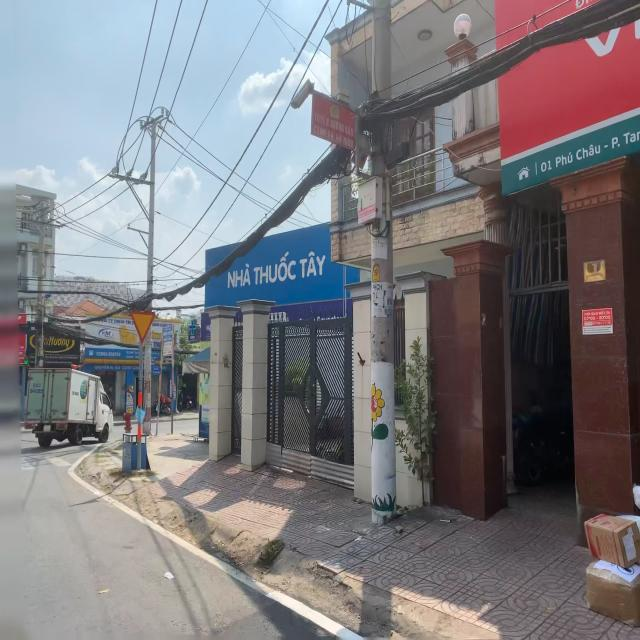Giao voi duong uu tien: (130, 308, 156, 344)
